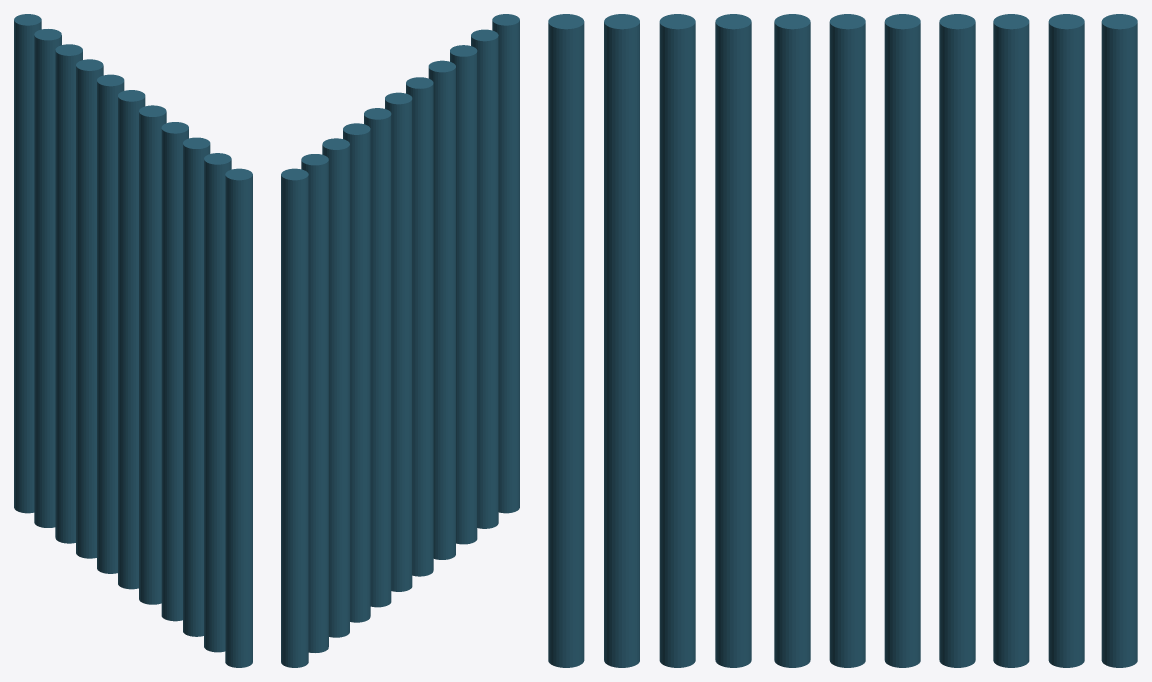
The model's file is Barra_Dungeon_Gelo.fbx.
3 views of the same model, side by side, from view 1: azimuth 30°, elevation 25°; view 2: azimuth 150°, elevation 25°; view 3: azimuth 270°, elevation 25° (orthographic). The views are drawn at different scales.
Parts seen in each view (by area): view 1: Barra_Gelo; view 2: Barra_Gelo; view 3: Barra_Gelo.
Boxes of the visible parts, box(x1,y1,x2,y2) form: Barra_Gelo: box(14, 14, 252, 667); Barra_Gelo: box(281, 14, 519, 667); Barra_Gelo: box(548, 14, 1137, 667).
Size of the model in its own units: 10 by 195 by 163.
